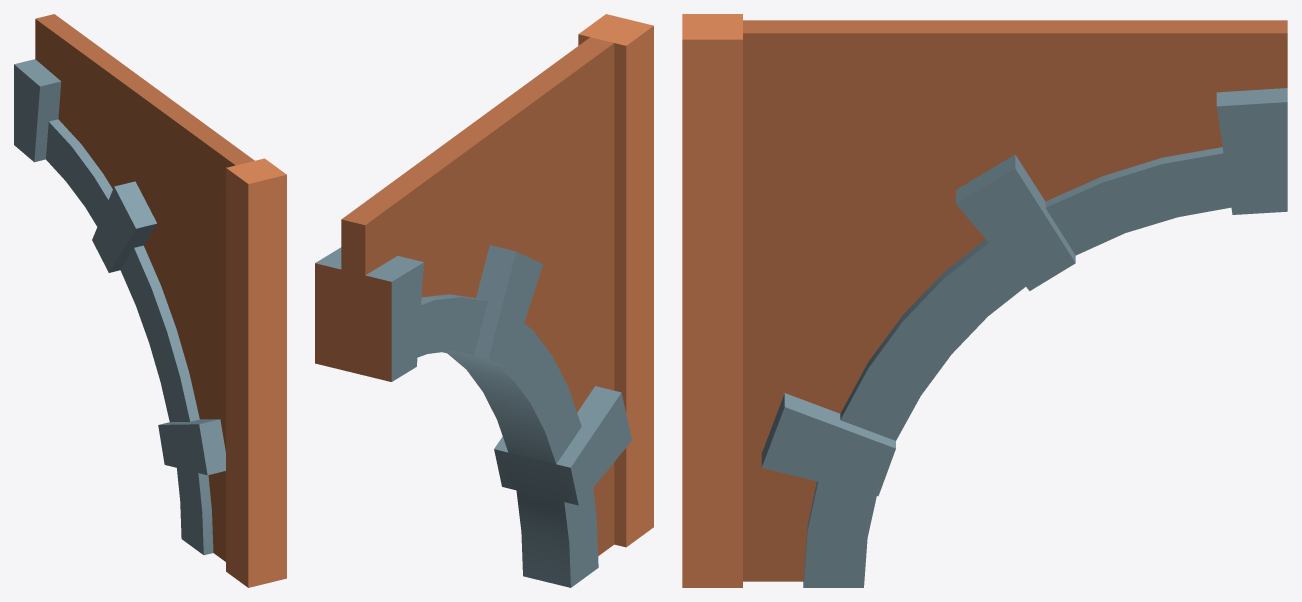
Rendered from wallWoodArchTopDetail.obj.
3 renders of one model, left to right at view 1: azimuth 30°, elevation 25°; view 2: azimuth 150°, elevation 25°; view 3: azimuth 270°, elevation 25°, orthographic. The views are drawn at different scales.
Visible parts, largest first — view 1: wallWoodArchTopDetail; view 2: wallWoodArchTopDetail; view 3: wallWoodArchTopDetail.
Boxes of the visible parts, bbox=[...] form: wallWoodArchTopDetail: bbox=[14, 14, 286, 587]; wallWoodArchTopDetail: bbox=[315, 14, 653, 587]; wallWoodArchTopDetail: bbox=[682, 14, 1287, 587].
Bounding box in the file's own units: 0.16 × 1 × 1.
